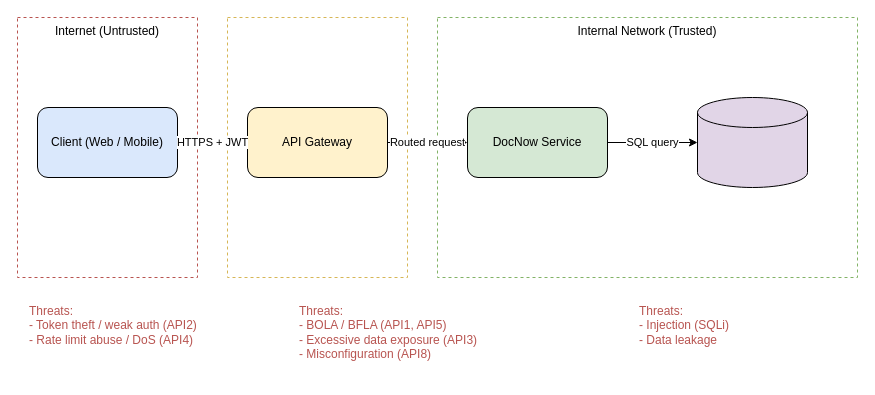
Image size: 875x395. Some labels were removed from this diagram. Each missing label, with the box of its shape:
Database: (696, 96, 808, 188)
DMZ: (226, 16, 408, 278)
